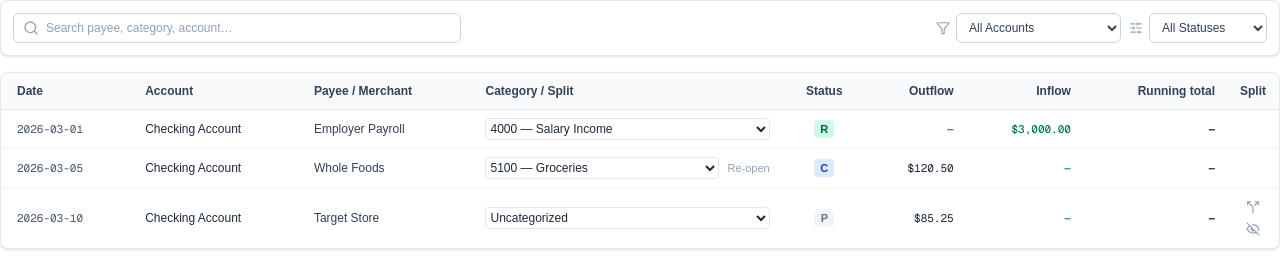
it: TransactionRegister › shows a running total only once a single account is selected
Expected: the text "$2,879.50" is not shown
Select "Checking Account" in the dropdown named "filter by account" at {"x": 1038, "y": 28}, box [956,13,1121,43]
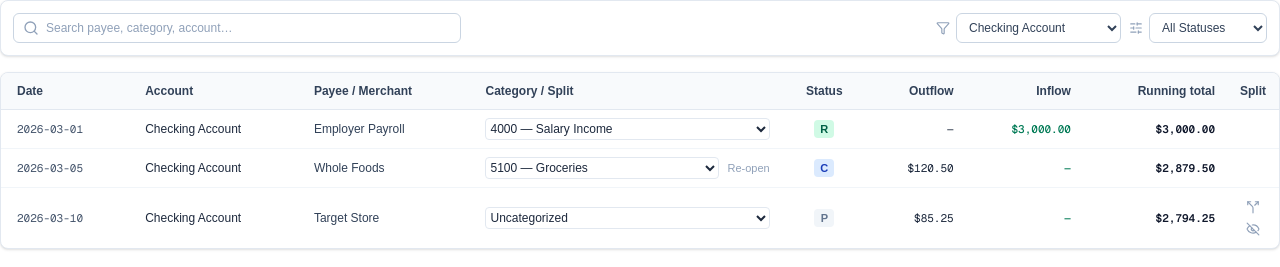
Expected: the text "$2,879.50" is shown, [1083,148,1231,188]
Expected: the text "$2,794.25" is shown, [1083,188,1231,248]
